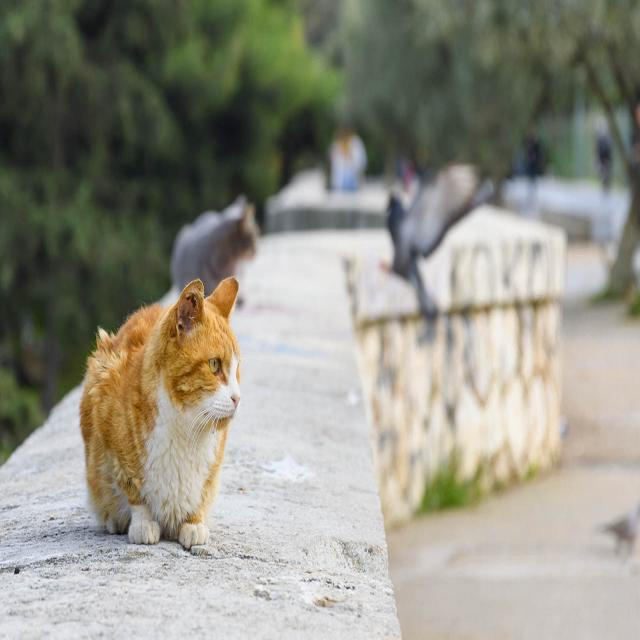cat: (80, 278, 241, 549), (170, 195, 259, 294), (409, 163, 494, 256), (386, 195, 422, 309), (329, 131, 368, 189), (524, 131, 546, 182), (596, 133, 611, 192)
